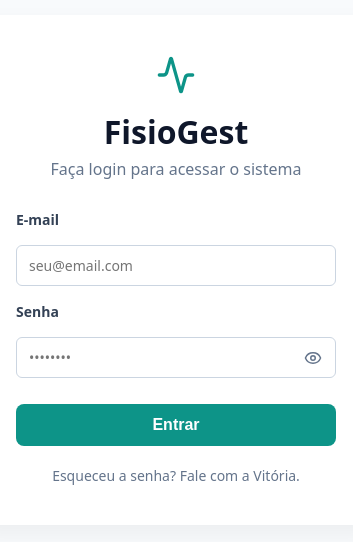
Test: <Login /> › mostra aviso na página (não um alert) quando as credenciais estão erradas
In the field with placeholder "seu@email.com": (176, 266) top-left (16, 245), bottom-right (336, 286), type "fisio@clinica.pt"
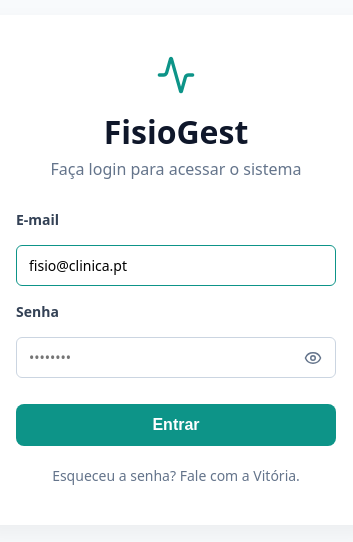
In the password field with placeholder "••••••••": (176, 358) top-left (16, 337), bottom-right (336, 378), type "segredo123"
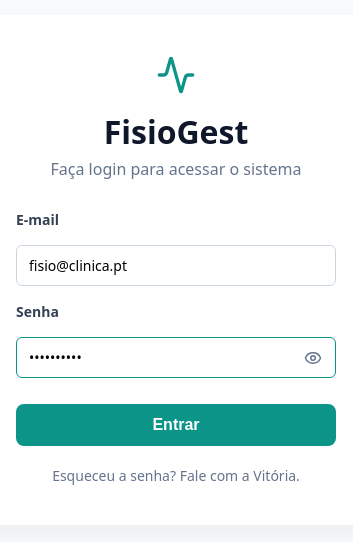
Click the button "Entrar": (176, 425) top-left (16, 404), bottom-right (336, 446)
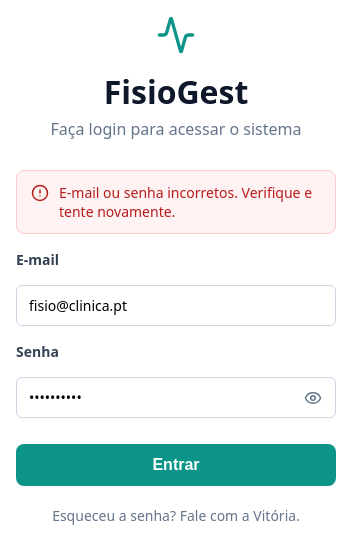
Expected: the button "Entrar" is enabled, top-left (16, 444), bottom-right (336, 486)
Result: the message shows "E-mail ou senha incorretos" at top-left (59, 183), bottom-right (312, 221)
